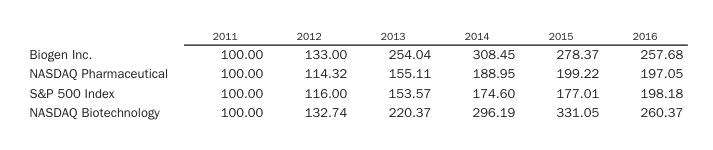table: (28, 29, 682, 119)
table column: (28, 29, 189, 119), (189, 29, 279, 119), (279, 29, 363, 119), (363, 29, 447, 119), (530, 29, 614, 119), (447, 29, 530, 119), (614, 29, 682, 119)
table column header: (28, 29, 682, 43)
table row: (28, 43, 682, 63), (28, 63, 682, 82), (28, 82, 682, 101), (28, 101, 682, 119), (28, 29, 682, 43)
